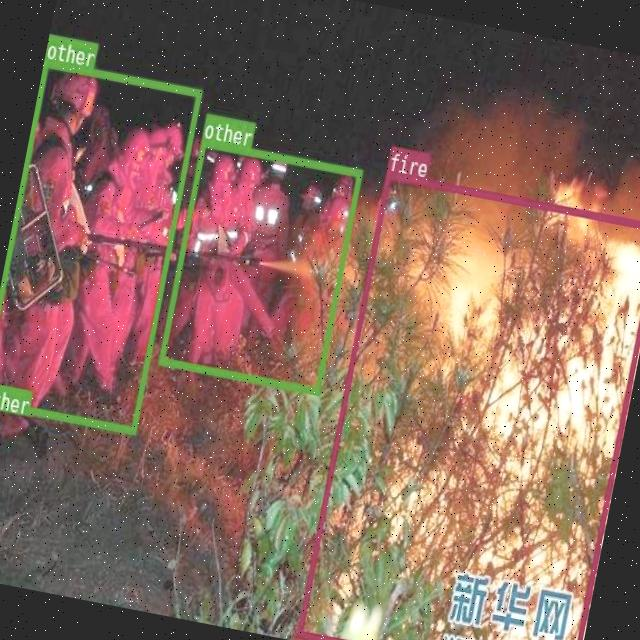fire: (296, 171, 640, 640)
